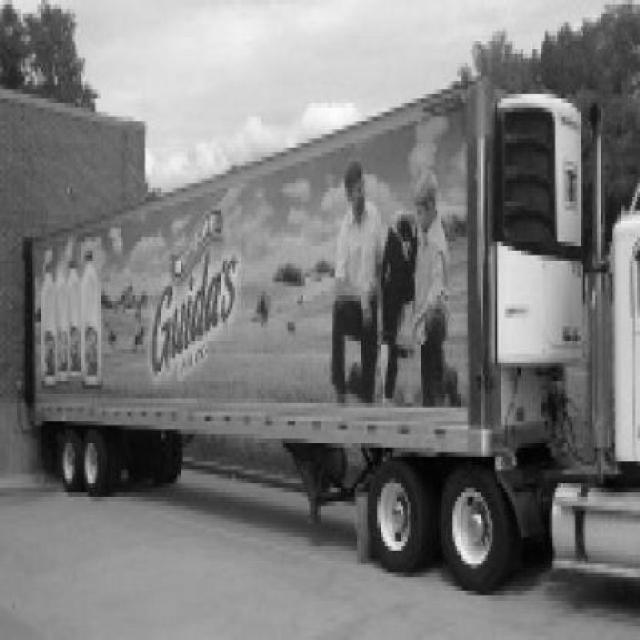Tractor Trailer: (19, 78, 640, 596)
